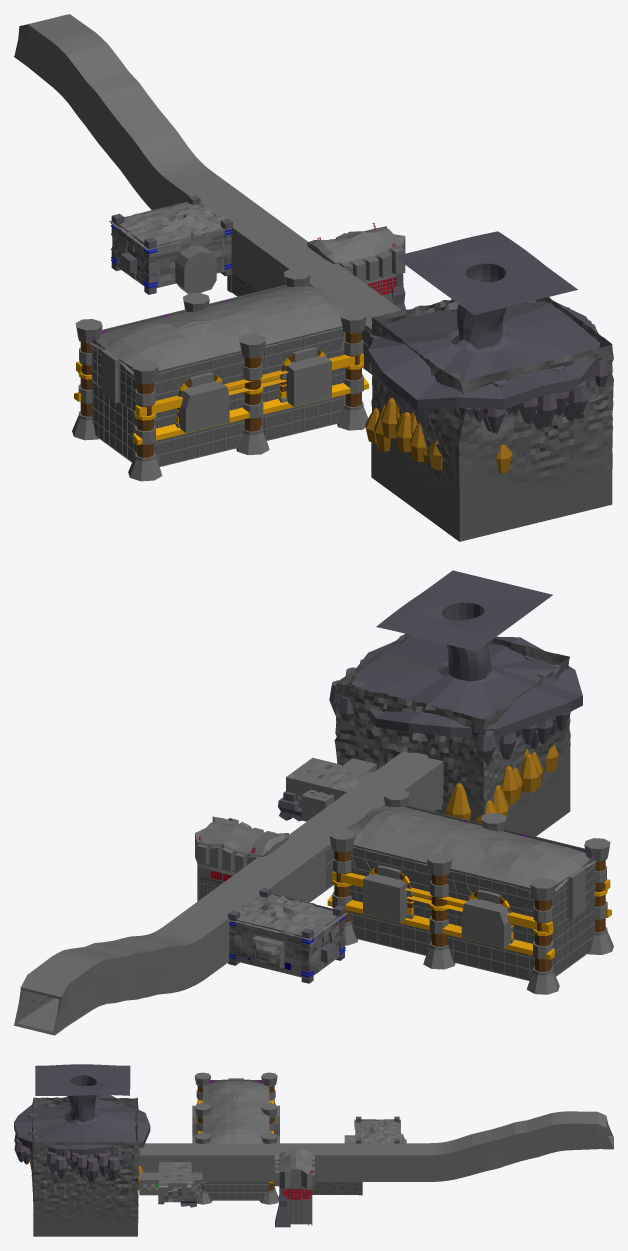
Rendered from rooms.fbx.
3 views of the same model, one above another, from view 1: azimuth 30°, elevation 25°; view 2: azimuth 150°, elevation 25°; view 3: azimuth 270°, elevation 25° (orthographic). The views are drawn at different scales.
Parts seen in each view (by area): view 1: rooms; view 2: rooms; view 3: rooms.
Boxes of the visible parts, x1,y1,x2,y2 form: rooms: [14, 14, 613, 541]; rooms: [14, 570, 613, 1035]; rooms: [14, 1064, 613, 1236].
Bounding box in the file's own units: 93.14 × 53.71 × 221.
